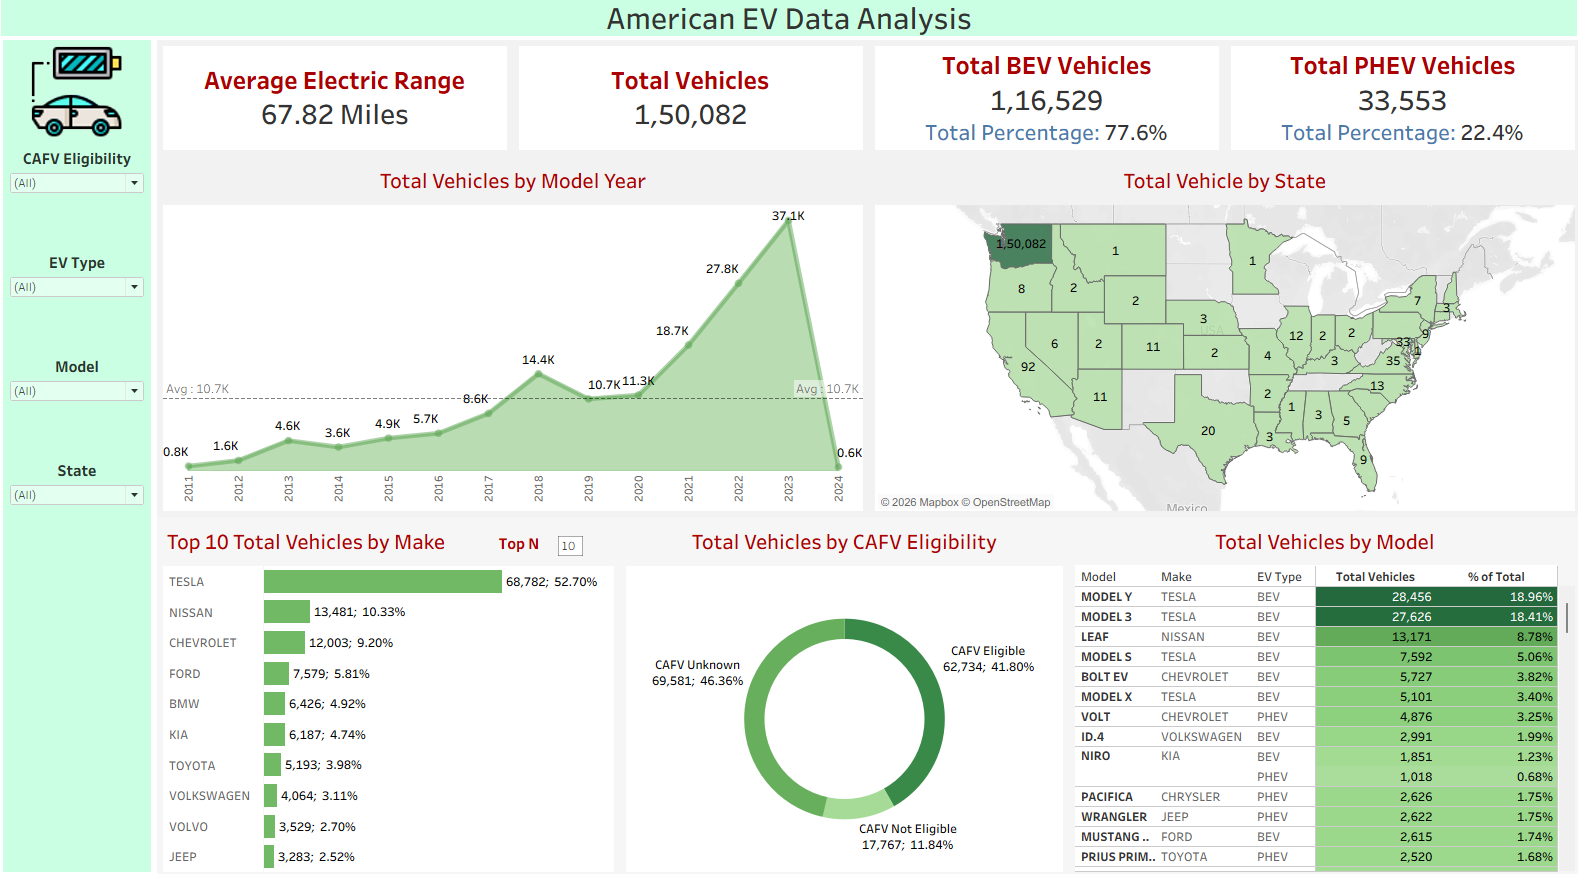

The dashboard page shown, as its layout file describes it:
{"tool":"tableau","page":{"name":"American EV Data Analysis","canvas":[1600,900],"ordinal":0},"visuals":[{"type":"title","box":[8,8,1584,46]},{"type":"image","param":"C:/Users/PRITHWIS/Desktop/FOR UPLOAD/Tablue/EV.png","box":[14,54,148,104]},{"type":"worksheet","title":"Avg. Electric Range","mark":"Automatic","box":[168,54,356,116]},{"type":"worksheet","title":"Total Vehicles","mark":"Automatic","box":[524,54,356,116]},{"type":"worksheet","title":"Total BEV Vehicles","mark":"Automatic","box":[880,54,356,116]},{"type":"worksheet","title":"Total PHEV Vehicles","mark":"Automatic","box":[1236,54,356,116]},{"type":"filter","title":"Total Vehicles by Model Year","param":"[federated.1ep24p31j8coro169doh81w9qzfr].[none:Clean Alternative Fuel Vehicle (C","box":[14,158,148,104]},{"type":"worksheet","title":"Total Vehicles by Model Year","mark":"Area","rows":["Calculation_1322369472807170048","Calculation_1322369472807170048"],"cols":["Model Year"],"box":[168,170,712,361]},{"type":"worksheet","title":"Total Vehicle by State","mark":"Multipolygon","box":[880,170,712,361]},{"type":"filter","title":"Total Vehicles by Model Year","param":"[federated.1ep24p31j8coro169doh81w9qzfr].[none:Electric Vehicle Type:nk]","box":[14,262,148,104]},{"type":"filter","title":"Total Vehicles by Model Year","param":"[federated.1ep24p31j8coro169doh81w9qzfr].[none:Model:nk]","box":[14,366,148,104]},{"type":"filter","title":"Total Vehicles by Model Year","param":"[federated.1ep24p31j8coro169doh81w9qzfr].[none:State:nk]","box":[14,470,148,104]},{"type":"worksheet","title":"Top 10 Total Vehicles by Make","mark":"Automatic","rows":["Make"],"cols":["Calculation_1322369472807170048"],"box":[168,531,463,361]},{"type":"worksheet","title":"Total Vehicles by CAFV Eligibility","mark":"Pie","rows":["Calculation_1487595284335595521","Calculation_1487595284335595521"],"box":[631,531,449,361]},{"type":"worksheet","title":"Total Vehicles by Model","mark":"Square","rows":["Model","Make","Electric Vehicle Type"],"box":[1080,531,512,361]},{"type":"parameter","param":"[Parameters].[Parameter 1]","box":[494,547,103,31]},{"type":"blank","box":[14,574,148,104]},{"type":"blank","box":[14,678,148,104]},{"type":"blank","box":[14,782,148,104]}]}

Visuals, with their boxes in screenshot pixels (x1, y1, x2, y2), scaled from the page's 1600x900 canvas onto the 1578x874 screenshot:
title: box=[8, 8, 1570, 52]
image: box=[14, 52, 160, 153]
"Avg. Electric Range" worksheet: box=[166, 52, 517, 165]
"Total Vehicles" worksheet: box=[517, 52, 868, 165]
"Total BEV Vehicles" worksheet: box=[868, 52, 1219, 165]
"Total PHEV Vehicles" worksheet: box=[1219, 52, 1570, 165]
"Total Vehicles by Model Year" filter: box=[14, 153, 160, 254]
"Total Vehicles by Model Year" worksheet (Area marks): box=[166, 165, 868, 516]
"Total Vehicle by State" worksheet (Multipolygon marks): box=[868, 165, 1570, 516]
"Total Vehicles by Model Year" filter: box=[14, 254, 160, 355]
"Total Vehicles by Model Year" filter: box=[14, 355, 160, 456]
"Total Vehicles by Model Year" filter: box=[14, 456, 160, 557]
"Top 10 Total Vehicles by Make" worksheet: box=[166, 516, 622, 866]
"Total Vehicles by CAFV Eligibility" worksheet (Pie marks): box=[622, 516, 1065, 866]
"Total Vehicles by Model" worksheet (Square marks): box=[1065, 516, 1570, 866]
parameter: box=[487, 531, 589, 561]
blank: box=[14, 557, 160, 658]
blank: box=[14, 658, 160, 759]
blank: box=[14, 759, 160, 860]
